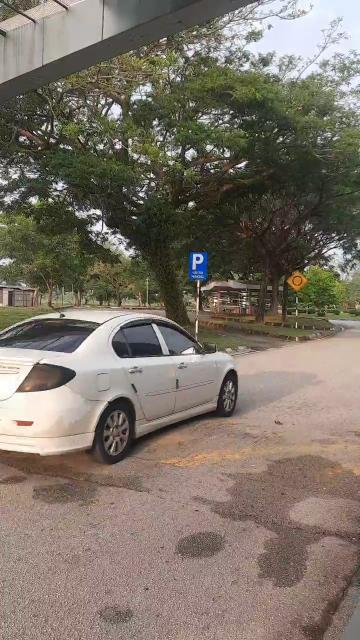car: (1, 299, 245, 470)
